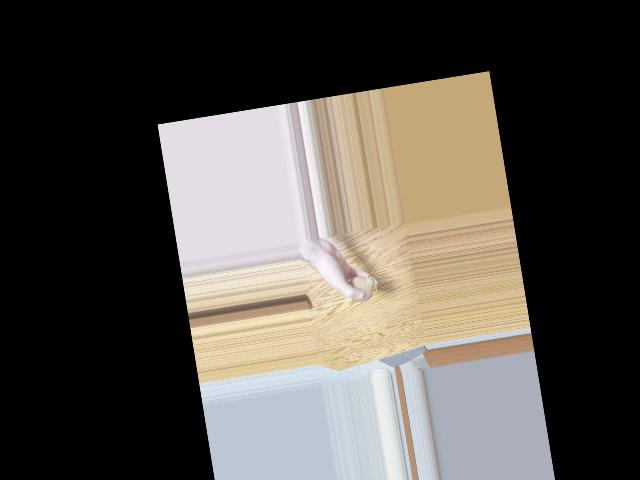onion: (349, 278, 372, 302)
